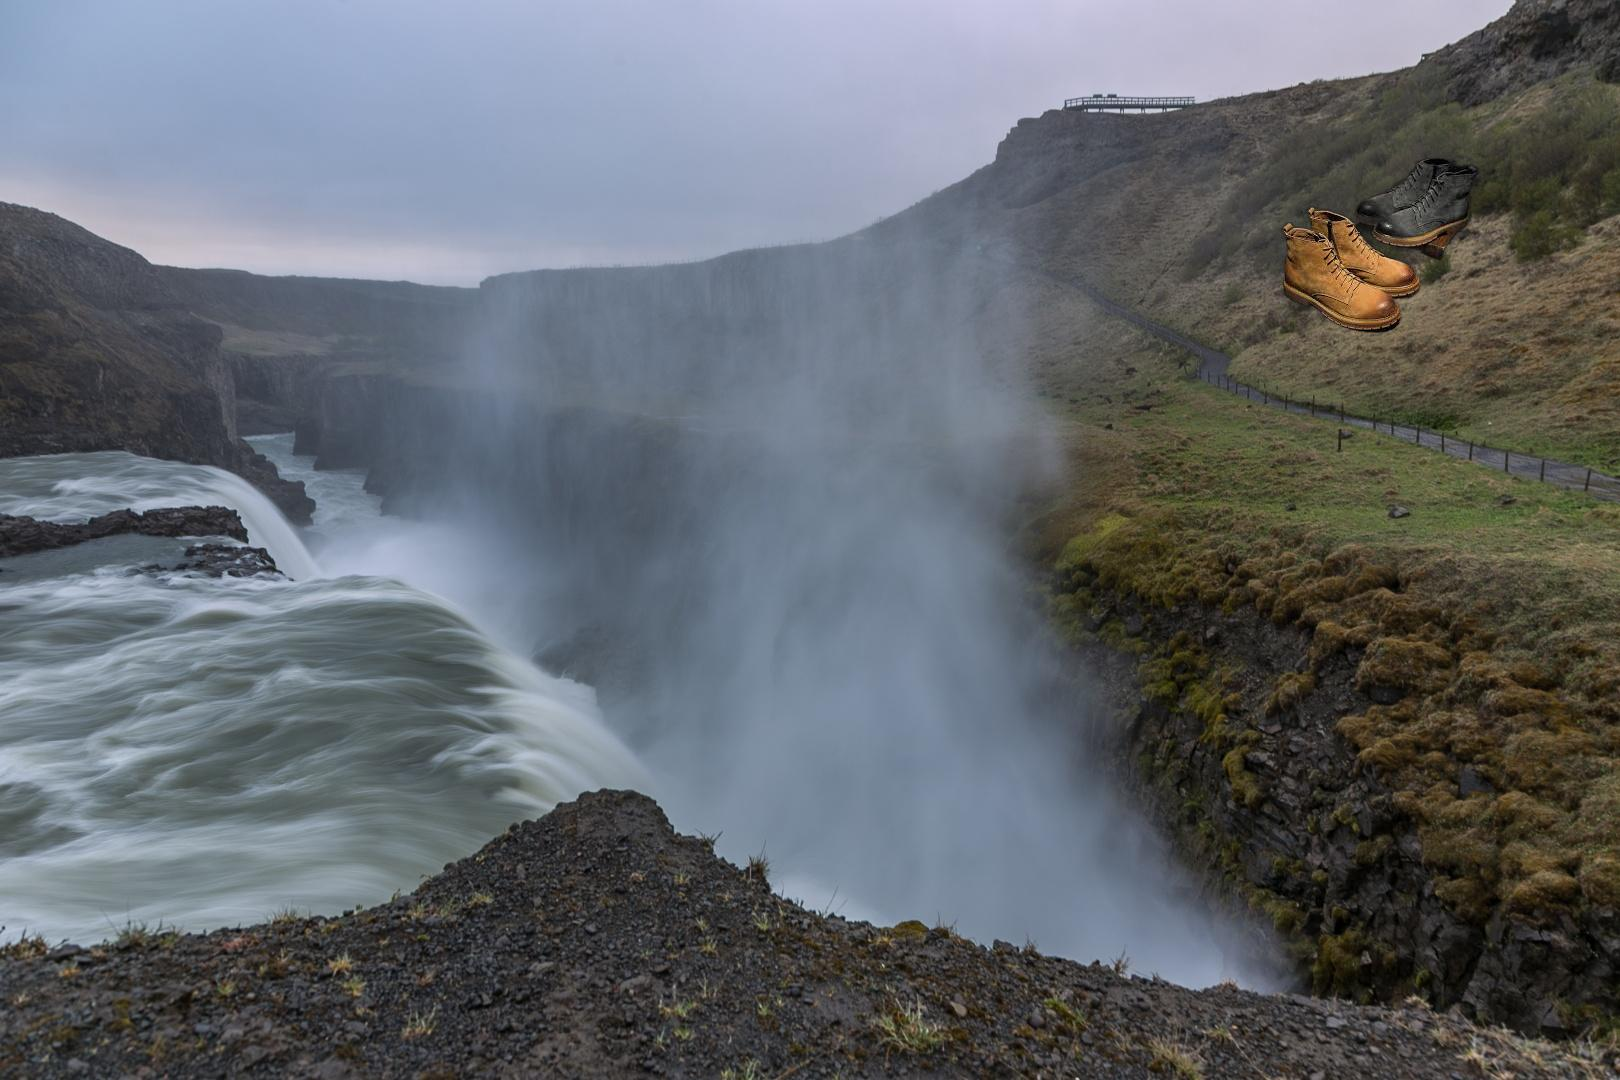shoes: (1279, 155, 1483, 336)
